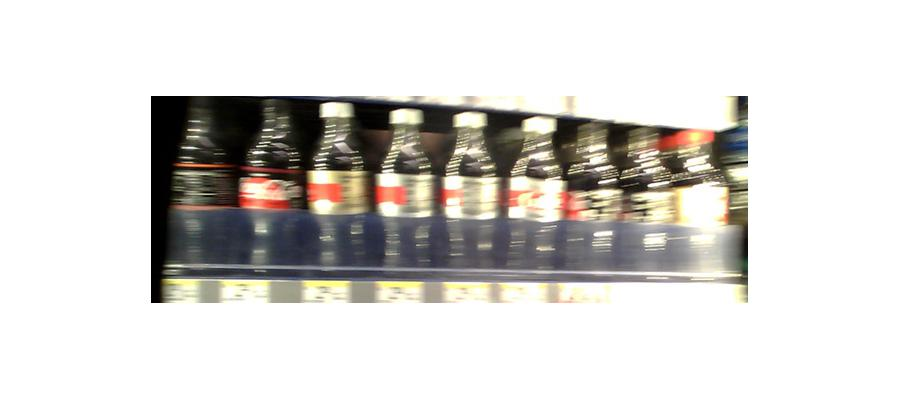bottle: (172, 107, 239, 278), (308, 96, 372, 274), (377, 103, 439, 275), (242, 101, 302, 274), (444, 108, 500, 268), (506, 130, 563, 267)
